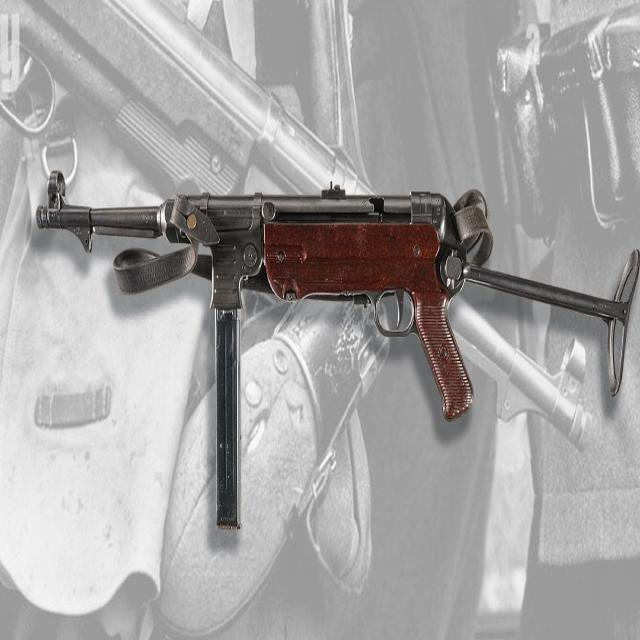SMG: (36, 172, 640, 531)
